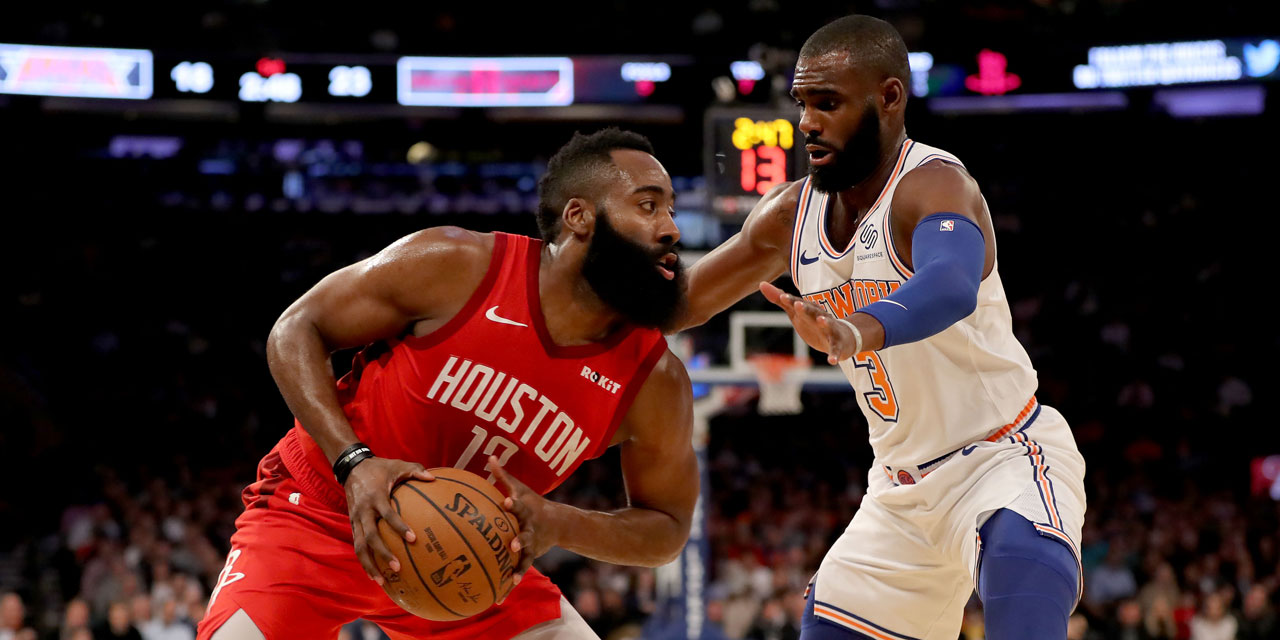Basketball: (373, 464, 523, 626)
